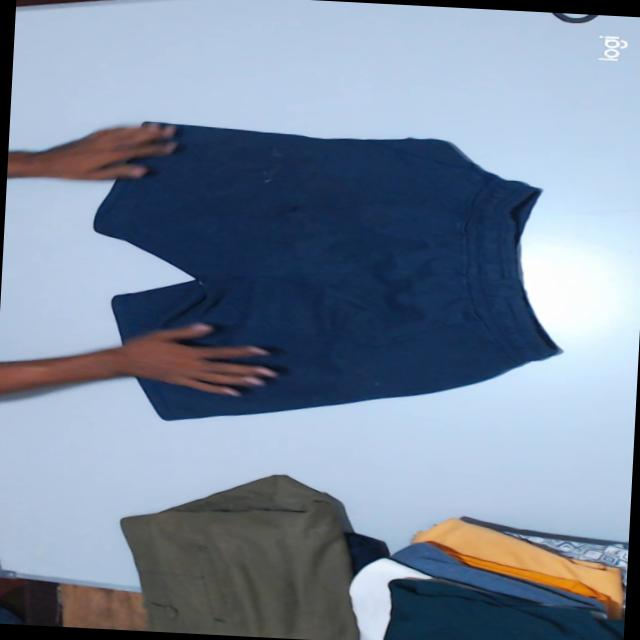new-garment: (95, 124, 557, 419)
